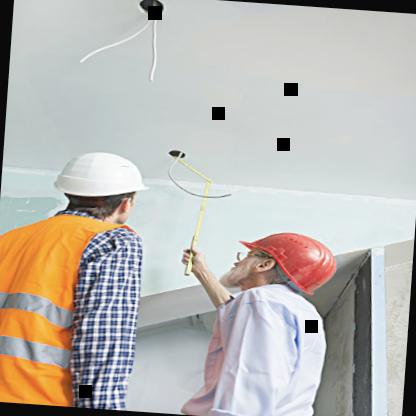helmet: (40, 140, 166, 235), (229, 219, 358, 303)
